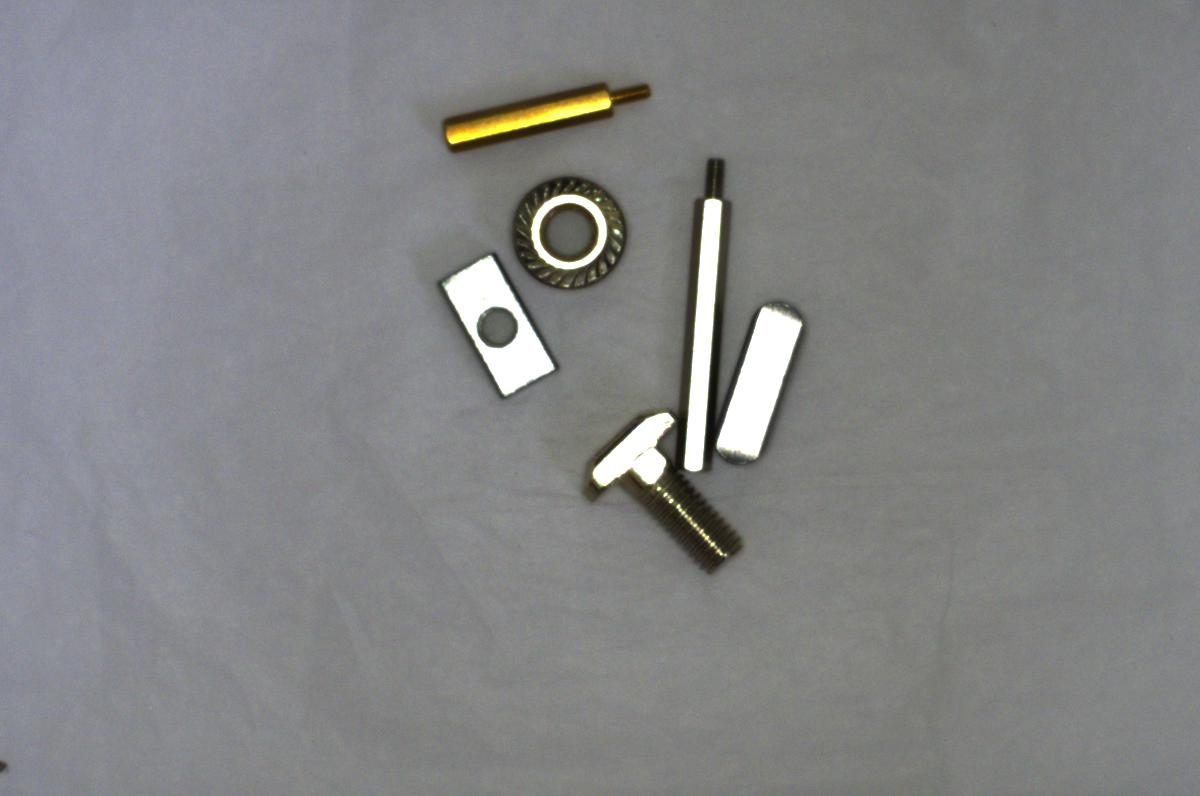Flange nut: (507, 173, 630, 300)
Hexagon pillar: (438, 68, 651, 153)
Hexagonal steel column: (666, 153, 717, 476)
Keybar: (705, 287, 813, 473)
Rectangular nut: (435, 252, 561, 398)
T-shaped screw: (582, 400, 744, 580)
